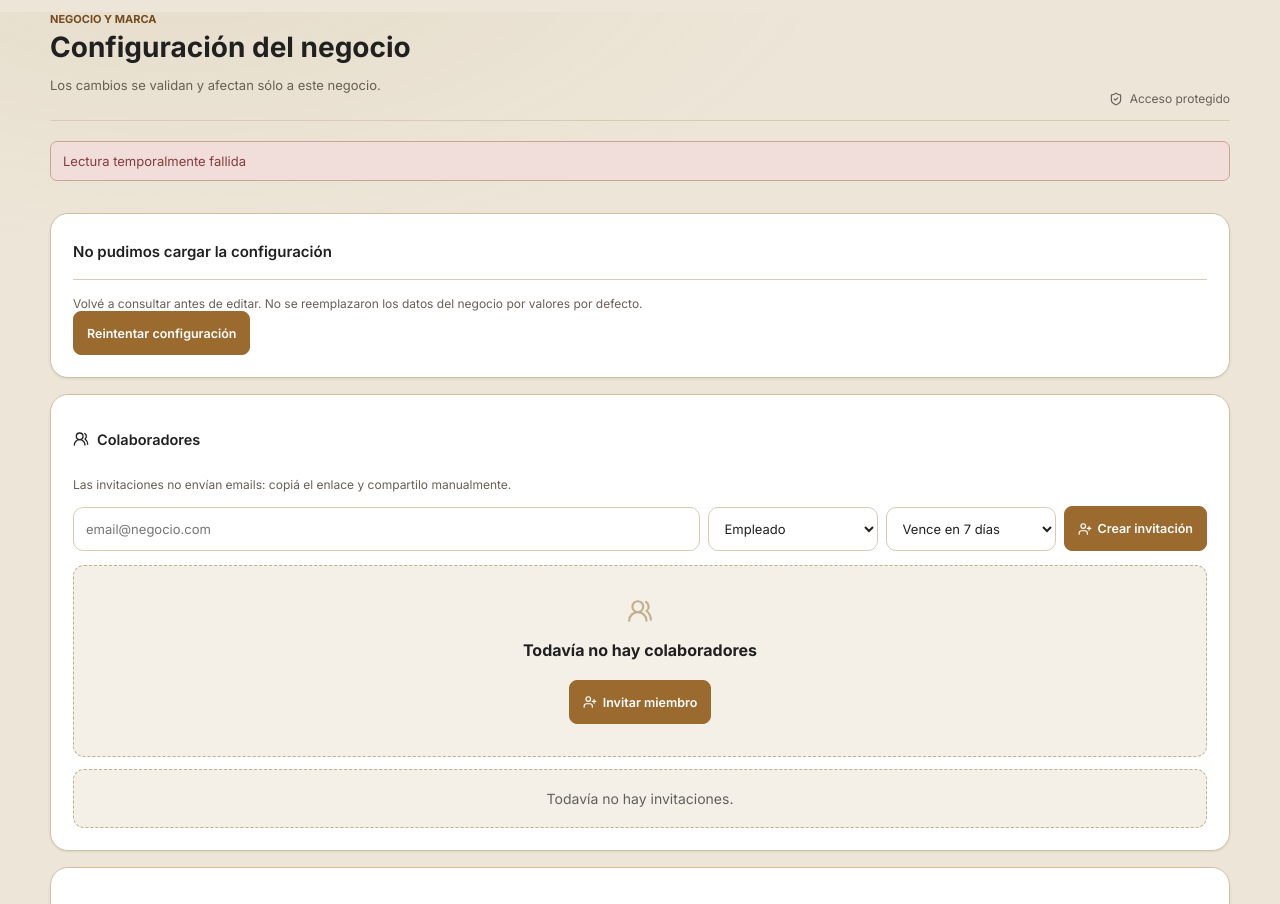
Test: Configuración: lectura fallida y conservación de borradores › una lectura fallida no permite guardar defaults; reintentar recupera los datos reales
expect the message "Lectura temporalmente fallida" is shown: met, box [50,141,1230,181]
Click the button "Reintentar configuración" at (162, 333), box [73,311,250,355]
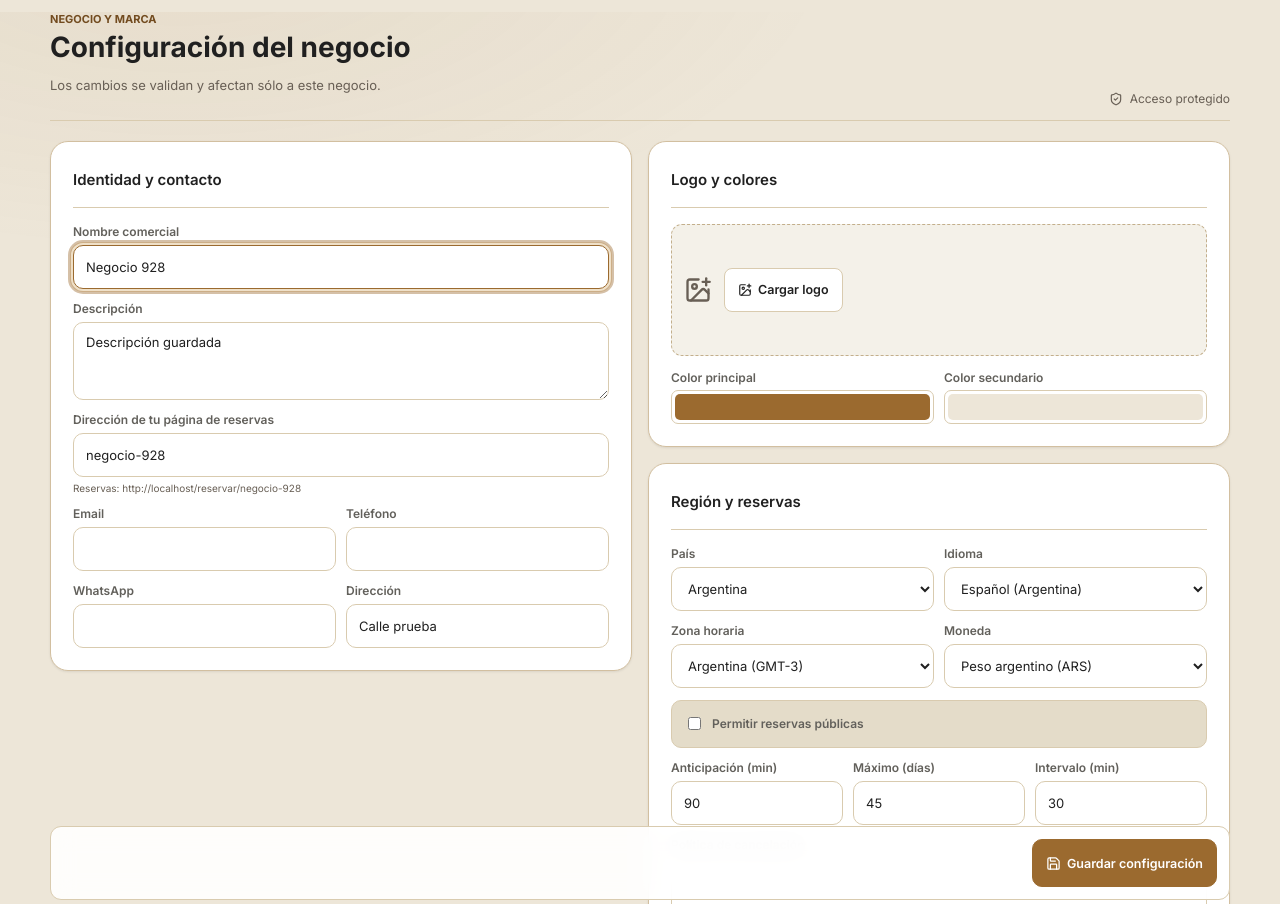
expect the field labelled "Nombre comercial" holds "Negocio 928": met, box [73,245,609,289]
expect the number field labelled "Anticipación (min)" holds "90": met, box [671,781,843,825]
expect the checkbox labelled "Permitir reservas públicas" is not checked: met, box [688,717,701,730]
